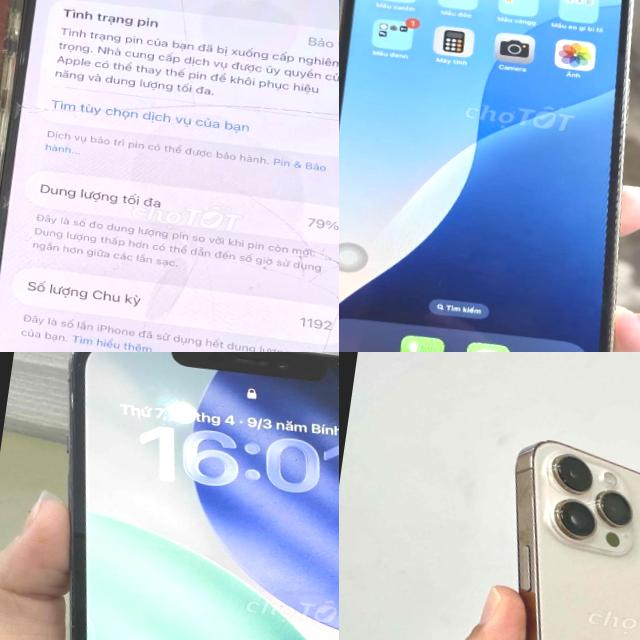gen_12_13: (339, 0, 640, 352), (0, 352, 339, 640)
gen_14: (456, 425, 640, 640)
gen_15: (0, 0, 339, 352)
